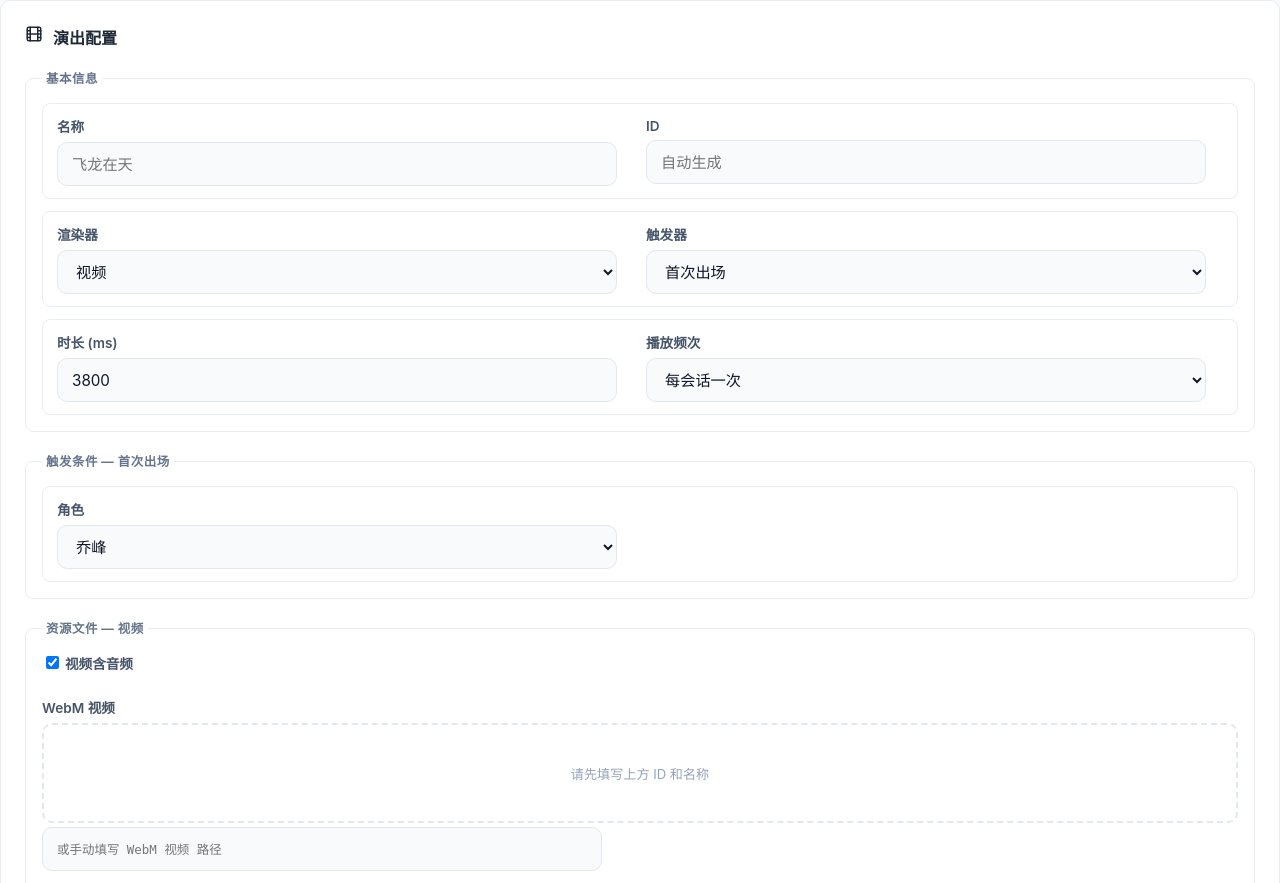
it: PerformanceConfigPanel › shows asset upload fields for audio renderer
The width and height of the screenshot is (1280, 883).
// Switch to audio renderer
Step 1. Select "声音" in the dropdown labelled "渲染器" → (337, 272), box [57, 250, 617, 294]
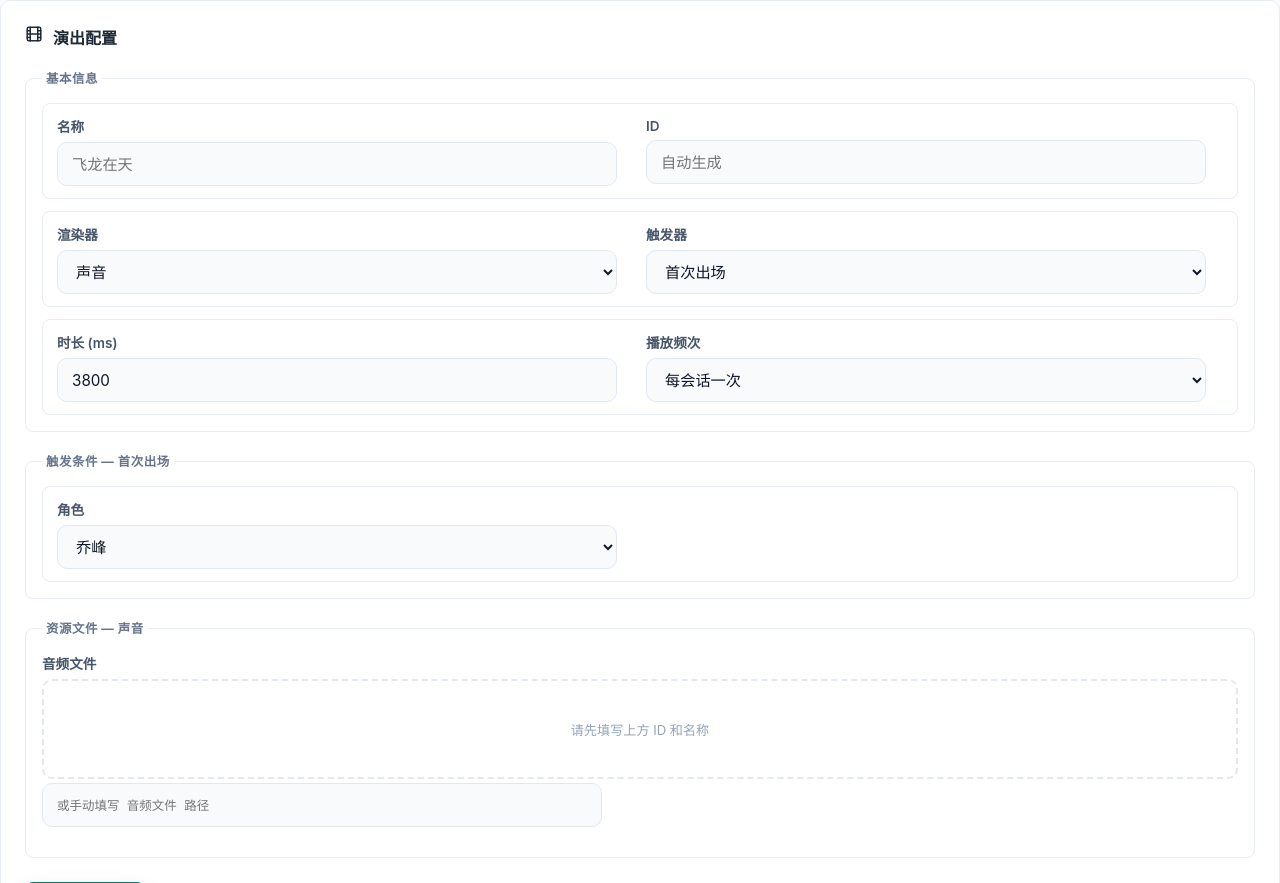
Now the text "音频文件" is shown, box [42, 656, 96, 672]
